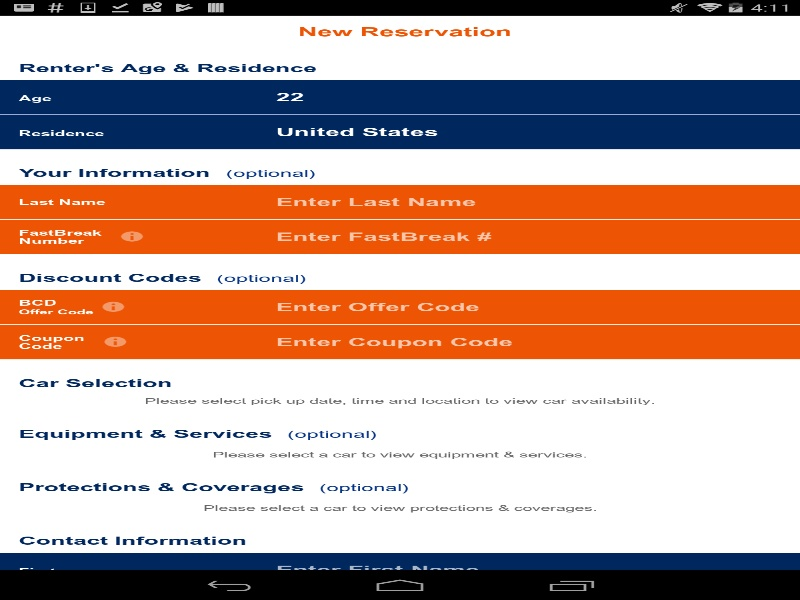Input: (266, 219, 800, 254), (266, 552, 800, 587), (266, 185, 800, 219), (266, 290, 800, 324), (266, 325, 800, 359)
